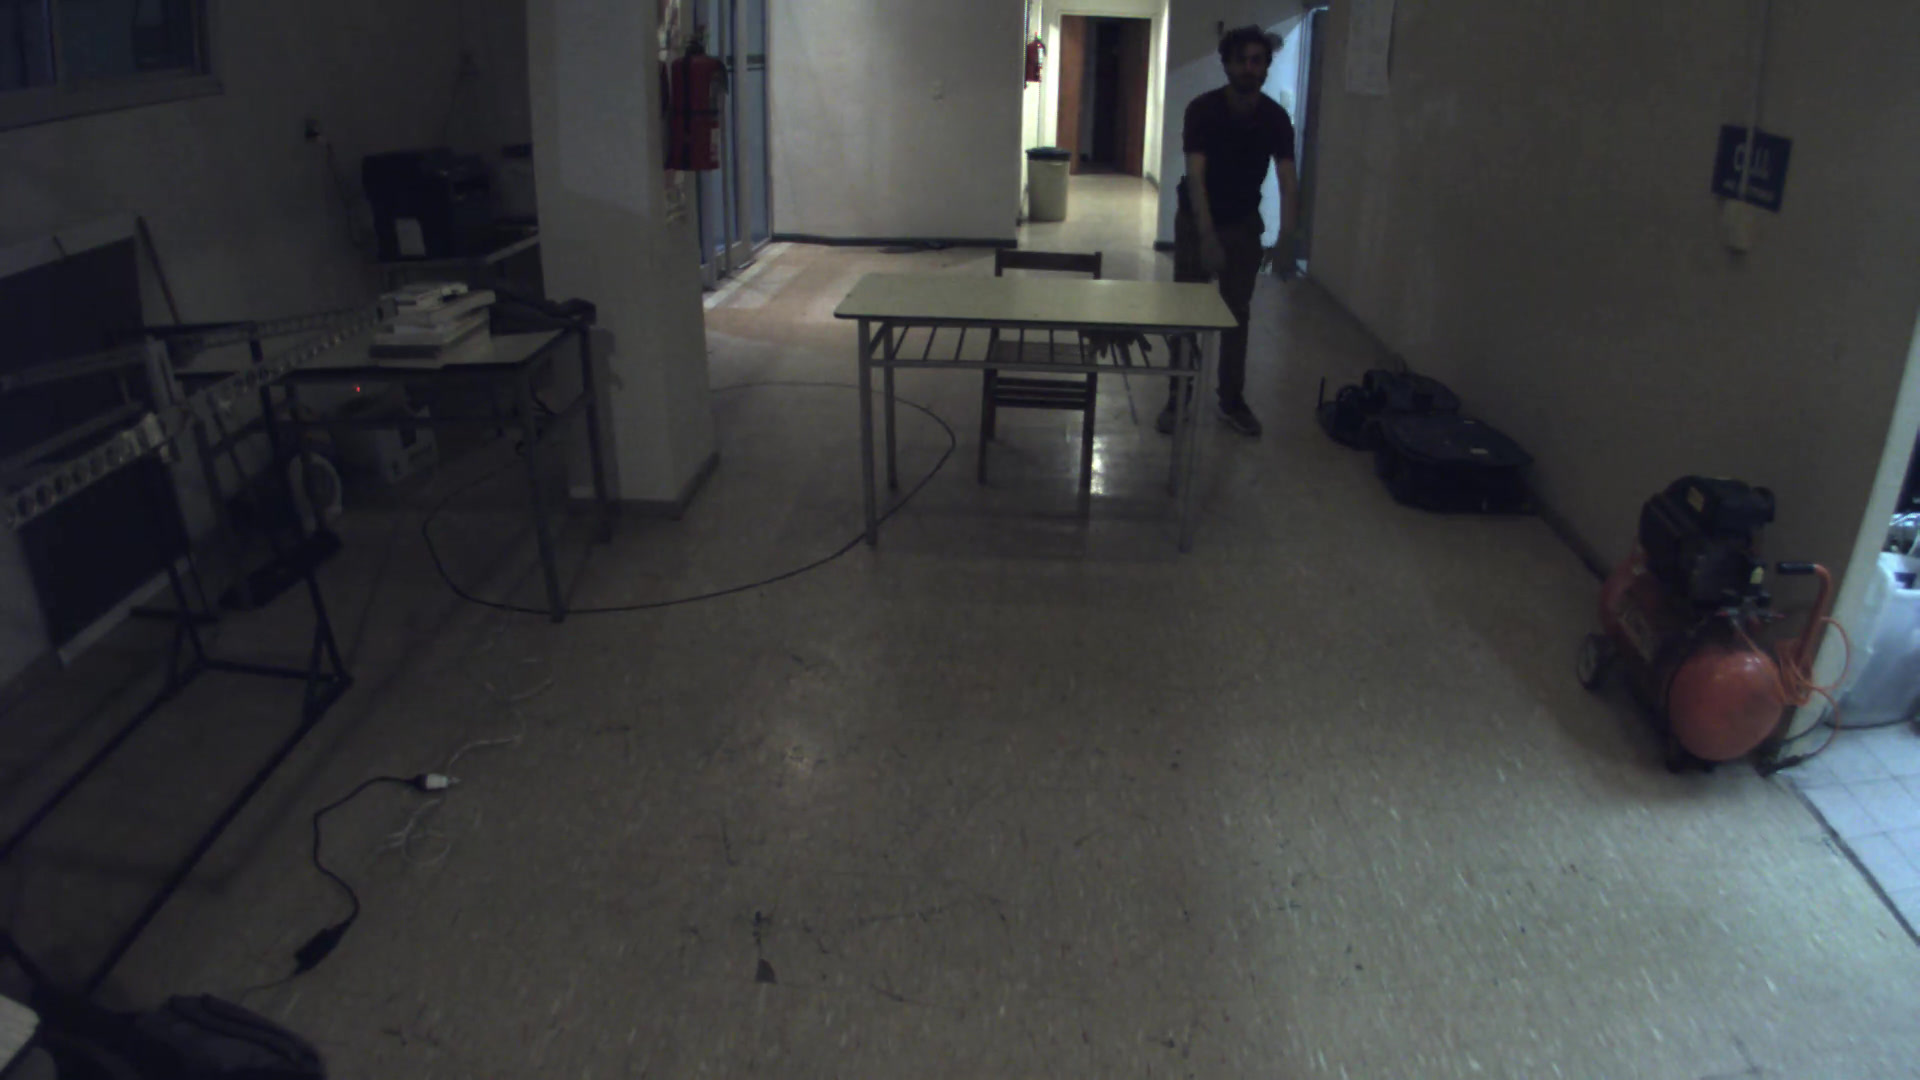hand: (1182, 225, 1236, 278), (1263, 229, 1312, 286)
